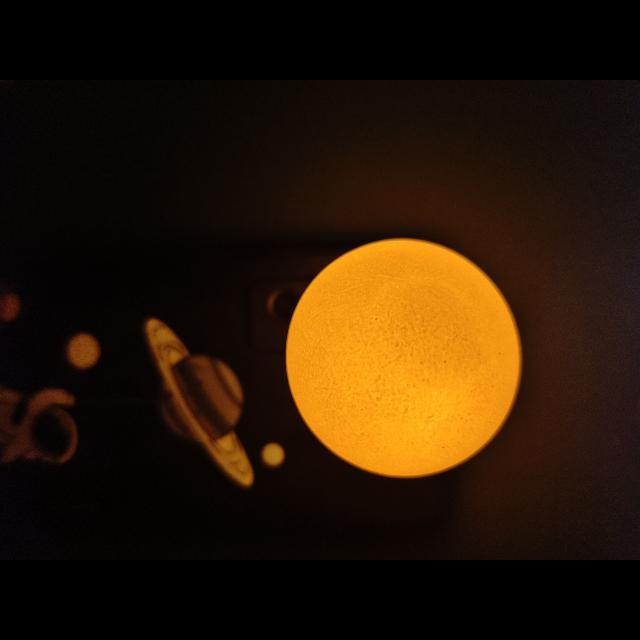AA - Premium: (286, 239, 521, 476)
